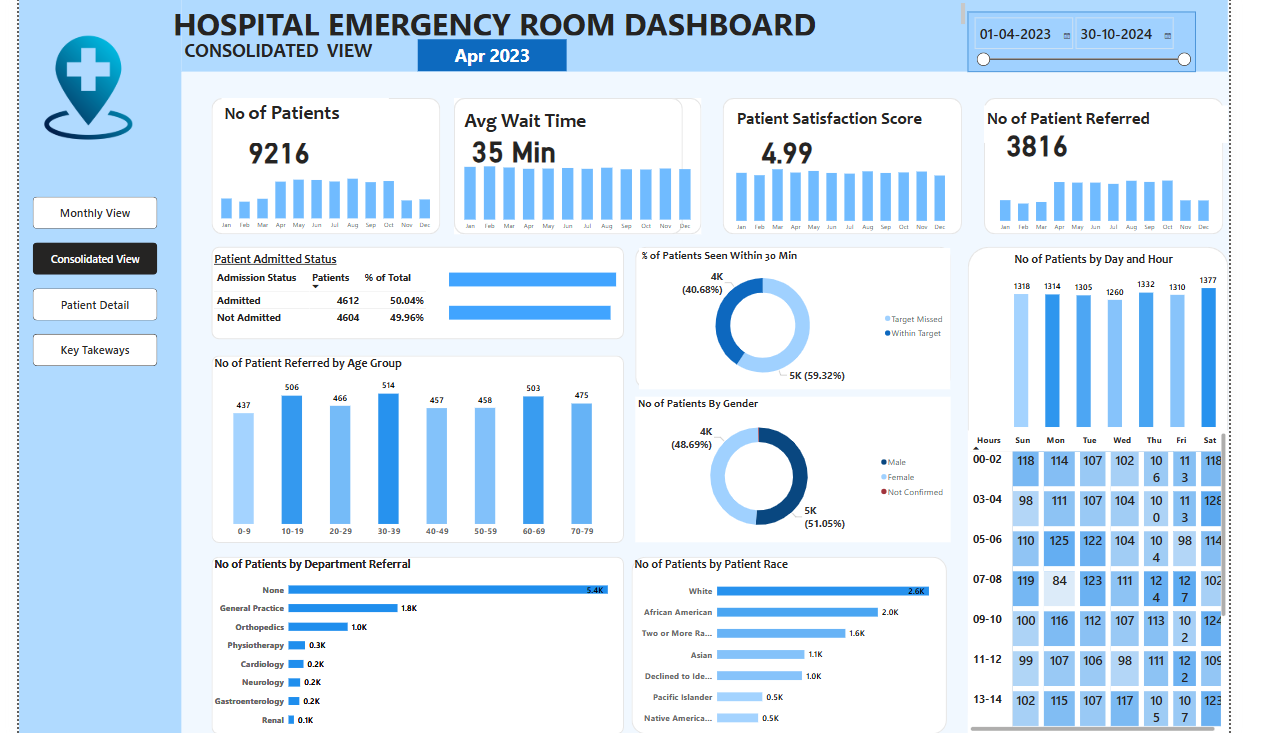

The page's visual inventory and layout, read from the dashboard file:
{"tool":"powerbi","page":{"name":"Consolidated  View","canvas":[2300,1400],"ordinal":1},"visuals":[{"type":"shape","box":[0,0,309.1,1400.5],"z":0},{"type":"shape","box":[309.1,0,1990.2,140.3],"z":1000},{"type":"textbox","box":[287.7,4.8,1517,71.3],"z":2000},{"type":"shape","box":[366.2,190.2,435.1,259.2],"z":3000},{"type":"textbox","box":[308.3,70.8,395.8,68.8],"z":4000},{"type":"card","fields":{"Values":["Hospital ER_Data.No of Patients"]},"box":[385.2,233,218.8,111.8],"z":5000},{"type":"textbox","box":[385.2,190.2,318.6,85.6],"z":6000},{"type":"columnChart","fields":{"Y":["Hospital ER_Data.No of Patients"],"Category":["Date Table.Month Name"]},"box":[366.2,294.8,435.1,154.6],"z":7000},{"type":"card","fields":{"Values":["Min(Date Table.Month & Year)"]},"box":[758.3,79.2,283.3,60.4],"z":8000},{"type":"shape","box":[827.5,190.2,470.8,259.2],"z":9000},{"type":"shape","box":[1339.2,190.2,455,259.2],"z":10000},{"type":"shape","box":[1835.6,190.2,455,259.2],"z":11000},{"type":"shape","box":[827.5,190.2,435.1,259.2],"z":12000},{"type":"textbox","box":[841.7,204.5,337.6,85.6],"z":13000},{"type":"card","fields":{"Values":["Hospital ER_Data.Avg Wait Time"]},"box":[813.2,247.3,256.8,78.5],"z":14000},{"type":"columnChart","fields":{"Y":["Avg(Hospital ER_Data.Patient Waittime)"],"Category":["Date Table.Month Name"]},"box":[827.5,297.2,470.8,154.6],"z":15000},{"type":"textbox","box":[1360.1,204.5,404.2,71.3],"z":16000},{"type":"card","fields":{"Values":["Hospital ER_Data.Satisfaction Score"]},"box":[1305.4,249.7,311.5,78.5],"z":17000},{"type":"columnChart","fields":{"Y":["Hospital ER_Data.Satisfaction Score"],"Category":["Date Table.Month Name"]},"box":[1345.8,299.6,435.1,154.6],"z":18000},{"type":"textbox","box":[1835.6,204.5,463.7,71.3],"z":19000},{"type":"shape","box":[366.2,473.2,784.7,176],"z":20000},{"type":"card","fields":{"Values":["Hospital ER_Data.No of Patient Referred"]},"box":[1780.9,235.4,311.5,78.5],"z":21000},{"type":"columnChart","fields":{"Y":["Hospital ER_Data.No of Patient Referred"],"Category":["Date Table.Month Name"]},"box":[1847.5,299.6,435.1,154.6],"z":22000},{"type":"pivotTable","title":"Patient Admitted Status","fields":{"Rows":["Hospital ER_Data.Admission Status"],"Values":["Hospital ER_Data.No of Patients1","Hospital ER_Data.No of Patients"]},"box":[366.2,482.7,435.1,166.4],"z":23000},{"type":"shape","box":[1804.2,472.9,495.8,927.1],"z":24000},{"type":"barChart","fields":{"Category":["Hospital ER_Data.Admission Status"],"Y":["Hospital ER_Data.No of Patient Referred"]},"box":[813.2,477.9,337.6,176],"z":25000},{"type":"shape","box":[366.2,680,784.7,356.7],"z":26000},{"type":"clusteredColumnChart","fields":{"Category":["Hospital ER_Data.Age Group"],"Y":["Hospital ER_Data.No of Patient Referred"]},"box":[366.2,680,768,356.7],"z":27000},{"type":"shape","box":[366.2,1062.8,784.7,337.6],"z":28000},{"type":"clusteredBarChart","fields":{"Category":["Hospital ER_Data.Department Referral"],"Y":["Hospital ER_Data.No of Patients"]},"box":[366.2,1062.8,784.7,337.6],"z":29000},{"type":"shape","box":[1172.2,473.2,600,270],"z":30000},{"type":"donutChart","title":"% of Patients Seen Within 30 Min","fields":{"Category":["Hospital ER_Data.WaitTime Status"],"Y":["Hospital ER_Data.No of Patients"]},"box":[1179.4,475.5,592.1,268.7],"z":31000},{"type":"donutChart","title":"No of Patients By Gender","fields":{"Y":["Hospital ER_Data.No of Patients"],"Category":["Hospital ER_Data.Patient Gender"]},"box":[1172.9,758.3,600,277.1],"z":32000},{"type":"shape","box":[1164.6,1062.5,600,337.5],"z":33000},{"type":"clusteredBarChart","fields":{"Category":["Hospital ER_Data.Department Referral"],"Y":["Hospital ER_Data.No of Patients"]},"box":[366.2,1062.4,784.7,337.6],"z":34000},{"type":"clusteredBarChart","fields":{"Y":["Hospital ER_Data.No of Patients"],"Category":["Hospital ER_Data.Patient Race"]},"box":[1164.6,1062.5,600,337.5],"z":35000},{"type":"pivotTable","fields":{"Rows":["Hospital ER_Data.Waittime Interval"],"Columns":["Date Table.Day Name"],"Values":["Hospital ER_Data.No of Patients"]},"box":[1804.2,822.9,495.8,577.1],"z":36000},{"type":"columnChart","title":"No of Patients by Day and Hour","fields":{"Category":["Date Table.Day Name"],"Y":["Hospital ER_Data.No of Patients"]},"box":[1887.5,483.3,395.8,339.6],"z":37000},{"type":"image","box":[0,66.7,264.6,208.3],"z":38000},{"type":"slicer","fields":{"Values":["Date Table.Date"]},"box":[1804.2,25,433.3,114.6],"z":39000},{"type":"pageNavigator","box":[27.1,377.1,237.5,322.9],"z":40000}]}

Visuals, with their boxes on the page's 2300x1400 design canvas (x1, y1, x2, y2). These are canvas units, not pixel positions in the 1264x733 screenshot, which may show the page scaled, cropped or inside an application window:
shape: bbox(0, 0, 309, 1400)
shape: bbox(309, 0, 2299, 140)
textbox: bbox(288, 5, 1805, 76)
shape: bbox(366, 190, 801, 449)
textbox: bbox(308, 71, 704, 140)
card - Hospital ER_Data.No of Patients: bbox(385, 233, 604, 345)
textbox: bbox(385, 190, 704, 276)
columnChart - Hospital ER_Data.No of Patients x Date Table.Month Name: bbox(366, 295, 801, 449)
card - Min(Date Table.Month & Year): bbox(758, 79, 1042, 140)
shape: bbox(828, 190, 1298, 449)
shape: bbox(1339, 190, 1794, 449)
shape: bbox(1836, 190, 2291, 449)
shape: bbox(828, 190, 1263, 449)
textbox: bbox(842, 204, 1179, 290)
card - Hospital ER_Data.Avg Wait Time: bbox(813, 247, 1070, 326)
columnChart - Avg(Hospital ER_Data.Patient Waittime) x Date Table.Month Name: bbox(828, 297, 1298, 452)
textbox: bbox(1360, 204, 1764, 276)
card - Hospital ER_Data.Satisfaction Score: bbox(1305, 250, 1617, 328)
columnChart - Hospital ER_Data.Satisfaction Score x Date Table.Month Name: bbox(1346, 300, 1781, 454)
textbox: bbox(1836, 204, 2299, 276)
shape: bbox(366, 473, 1151, 649)
card - Hospital ER_Data.No of Patient Referred: bbox(1781, 235, 2092, 314)
columnChart - Hospital ER_Data.No of Patient Referred x Date Table.Month Name: bbox(1848, 300, 2283, 454)
"Patient Admitted Status" pivotTable: bbox(366, 483, 801, 649)
shape: bbox(1804, 473, 2300, 1400)
barChart - Hospital ER_Data.Admission Status x Hospital ER_Data.No of Patient Referred: bbox(813, 478, 1151, 654)
shape: bbox(366, 680, 1151, 1037)
clusteredColumnChart - Hospital ER_Data.Age Group x Hospital ER_Data.No of Patient Referred: bbox(366, 680, 1134, 1037)
shape: bbox(366, 1063, 1151, 1400)
clusteredBarChart - Hospital ER_Data.Department Referral x Hospital ER_Data.No of Patients: bbox(366, 1063, 1151, 1400)
shape: bbox(1172, 473, 1772, 743)
"% of Patients Seen Within 30 Min" donutChart: bbox(1179, 476, 1772, 744)
"No of Patients By Gender" donutChart: bbox(1173, 758, 1773, 1035)
shape: bbox(1165, 1062, 1765, 1400)
clusteredBarChart - Hospital ER_Data.Department Referral x Hospital ER_Data.No of Patients: bbox(366, 1062, 1151, 1400)
clusteredBarChart - Hospital ER_Data.No of Patients x Hospital ER_Data.Patient Race: bbox(1165, 1062, 1765, 1400)
pivotTable - Hospital ER_Data.Waittime Interval x Date Table.Day Name: bbox(1804, 823, 2300, 1400)
"No of Patients by Day and Hour" columnChart: bbox(1888, 483, 2283, 823)
image: bbox(0, 67, 265, 275)
slicer - Date Table.Date: bbox(1804, 25, 2238, 140)
pageNavigator: bbox(27, 377, 265, 700)
